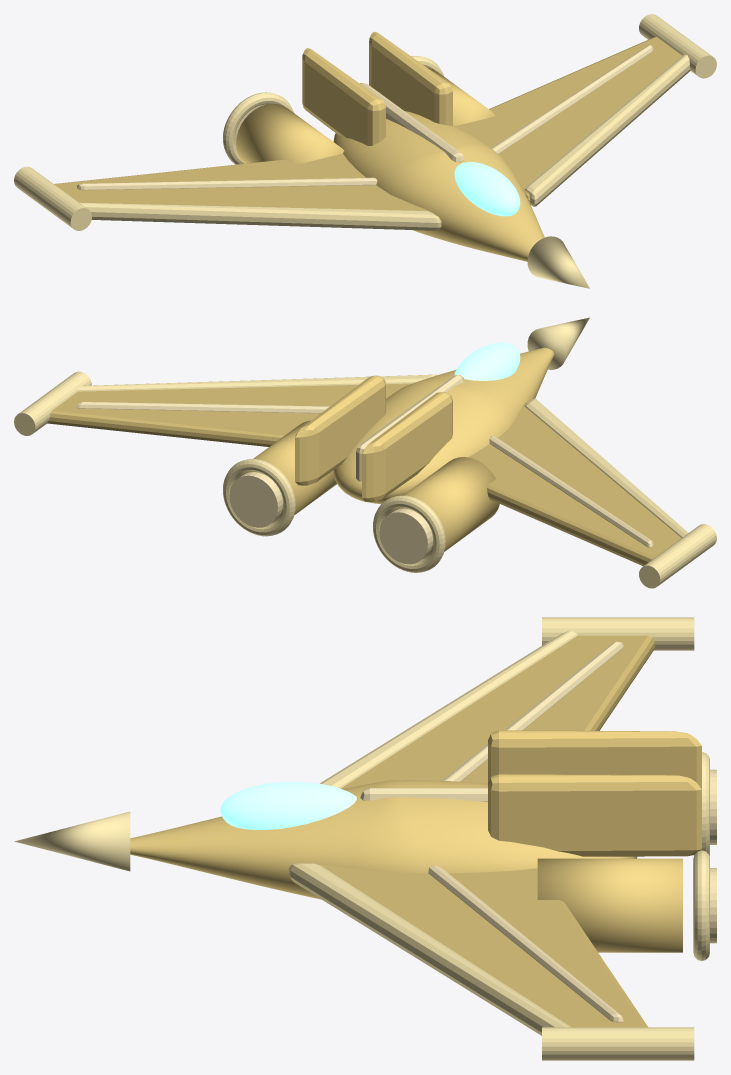
Rendered from SM_Keeper_UmbraUnmasked_Body.fbx.
3 views of the same model, one above another, from view 1: azimuth 30°, elevation 25°; view 2: azimuth 150°, elevation 25°; view 3: azimuth 270°, elevation 25° (orthographic). The views are drawn at different scales.
Parts seen in each view (by area): view 1: SM_Keeper_UmbraUnmasked_Body; view 2: SM_Keeper_UmbraUnmasked_Body; view 3: SM_Keeper_UmbraUnmasked_Body.
Part boxes in pixels (<box>): SM_Keeper_UmbraUnmasked_Body: <box>14,14,716,288</box>; SM_Keeper_UmbraUnmasked_Body: <box>14,317,716,588</box>; SM_Keeper_UmbraUnmasked_Body: <box>14,617,716,1060</box>.
Size of the model in its own units: 6.88 by 1.16 by 4.82.
